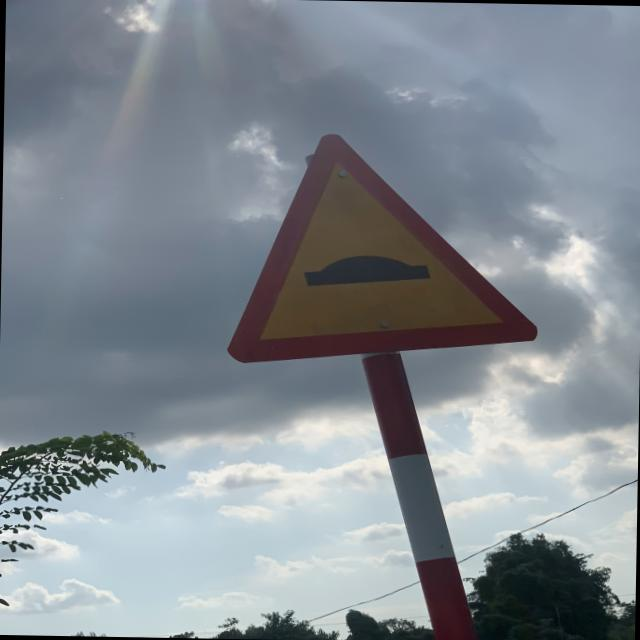Duong_Cong_Ben_Phai: (224, 128, 544, 368)
